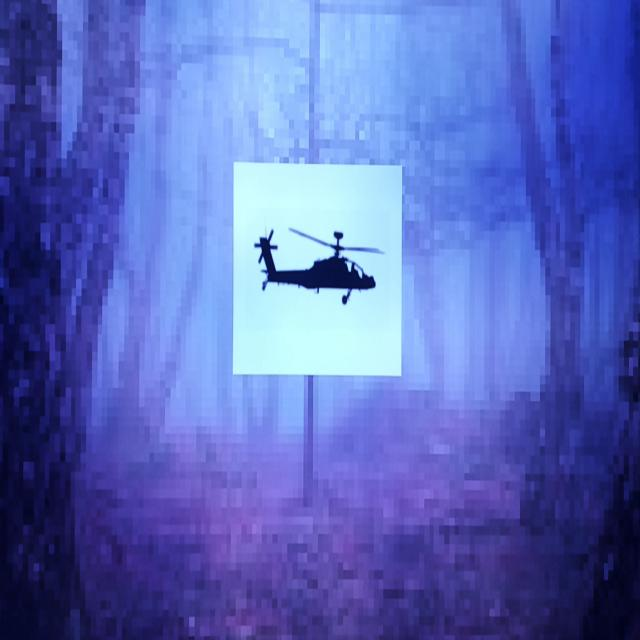Apache friendly: (255, 229, 383, 303)
